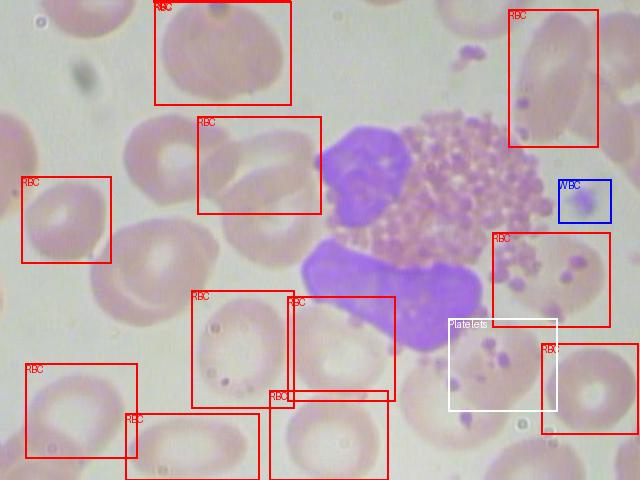Platelets: (448, 318, 557, 411)
RBC: (154, 1, 291, 105), (508, 9, 598, 147), (191, 290, 294, 408), (197, 116, 321, 214), (287, 296, 395, 401), (492, 232, 610, 327), (269, 390, 388, 480), (25, 363, 137, 458), (125, 413, 259, 480), (541, 343, 638, 434), (21, 176, 111, 263)
WBC: (558, 179, 611, 223)
